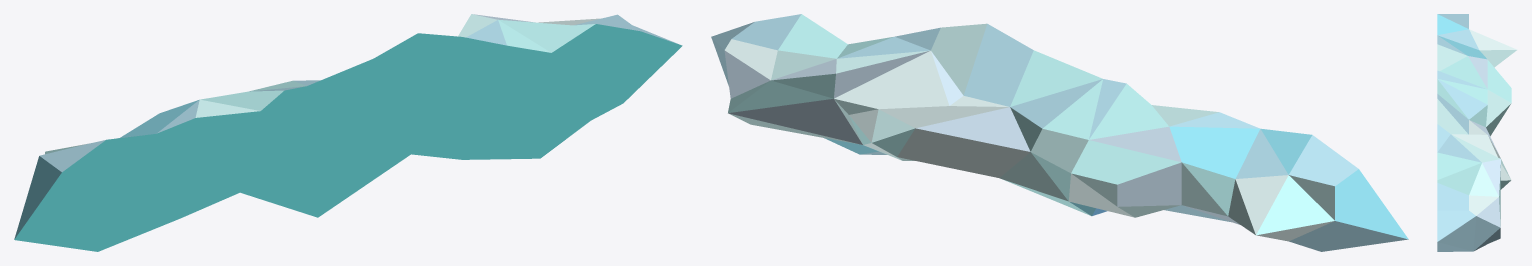
The model's file is winter_mountain_8.fbx.
3 renders of one model, left to right at view 1: azimuth 30°, elevation 25°; view 2: azimuth 150°, elevation 25°; view 3: azimuth 270°, elevation 25°, orthographic. The views are drawn at different scales.
Parts seen in each view (by area): view 1: winter_mountain_8; view 2: winter_mountain_8; view 3: winter_mountain_8.
Part boxes in pixels (x1=…): winter_mountain_8: x1=14, y1=14, x2=682, y2=251; winter_mountain_8: x1=711, y1=14, x2=1408, y2=251; winter_mountain_8: x1=1437, y1=14, x2=1517, y2=251.
Size of the model in its own units: 1032 by 236 by 154.
